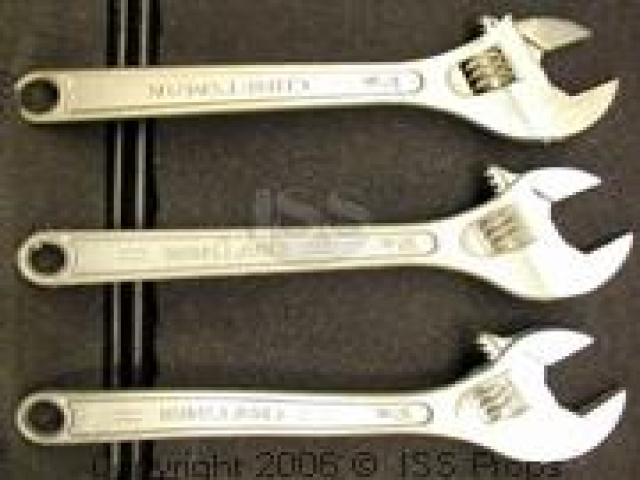Adjustable spanner: (18, 165, 632, 300), (16, 329, 625, 462), (15, 16, 619, 142)
